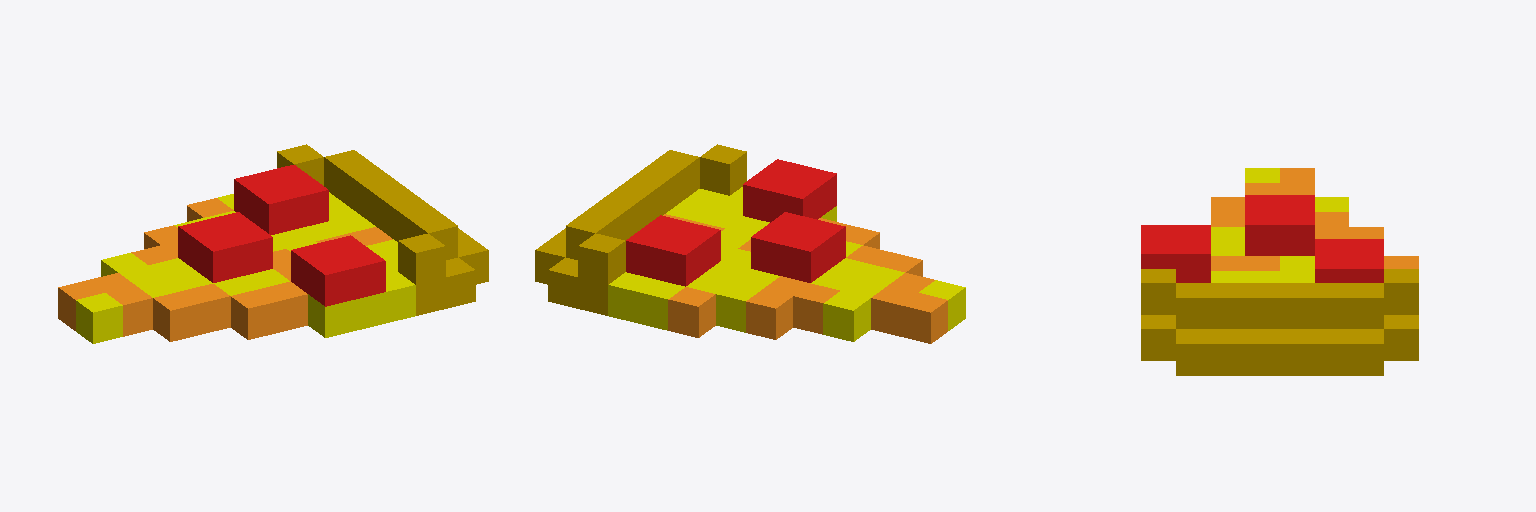
3 renders of one model, left to right at view 1: azimuth 30°, elevation 25°; view 2: azimuth 150°, elevation 25°; view 3: azimuth 270°, elevation 25°, orthographic.
Parts seen in each view (by area): view 1: object 1; view 2: object 1; view 3: object 1.
Boxes of the visible parts, box(x1,y1,x2,y2) form: object 1: box(58, 144, 488, 343); object 1: box(535, 144, 965, 343); object 1: box(1141, 168, 1418, 375).
Bounding box in the file's own units: 1.2 × 0.2 × 0.8.
Materials: 1 (1 with a texture image).